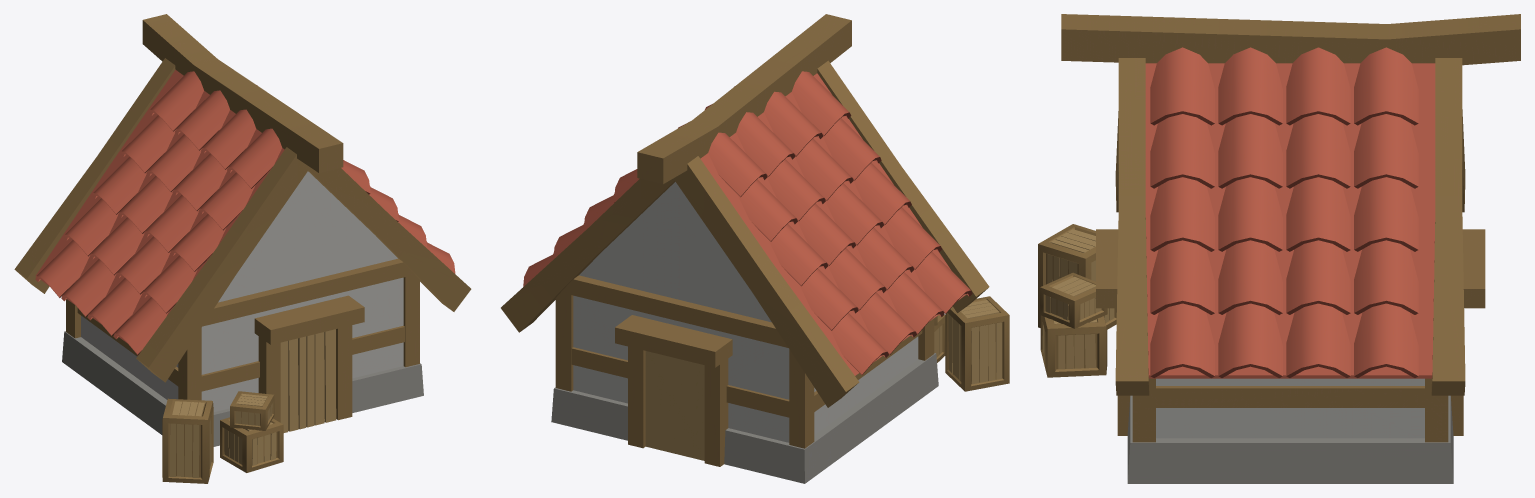
Rendered from shop.glb.
3 views of the same model, side by side, from view 1: azimuth 30°, elevation 25°; view 2: azimuth 150°, elevation 25°; view 3: azimuth 270°, elevation 25° (orthographic). The views are drawn at different scales.
Visible parts, largest first — view 1: Houses_SecondAge_1_Level1; view 2: Houses_SecondAge_1_Level1; view 3: Houses_SecondAge_1_Level1.
Part boxes in pixels (x1,y1,x2,y2): Houses_SecondAge_1_Level1: (14, 14, 471, 483); Houses_SecondAge_1_Level1: (501, 14, 1009, 483); Houses_SecondAge_1_Level1: (1038, 14, 1520, 483).
Bounding box in the file's own units: 0.89 × 0.7722 × 0.8645.
1 material, 1 textured.
